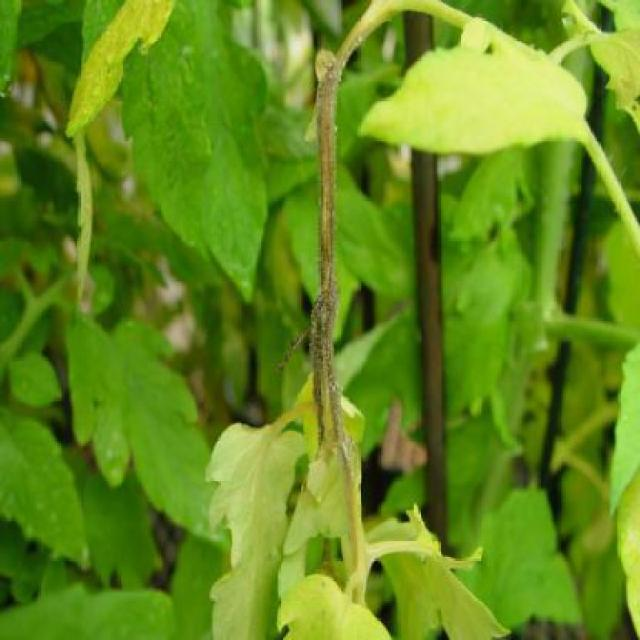Leaf Mold: (195, 398, 312, 579), (280, 416, 371, 561)
